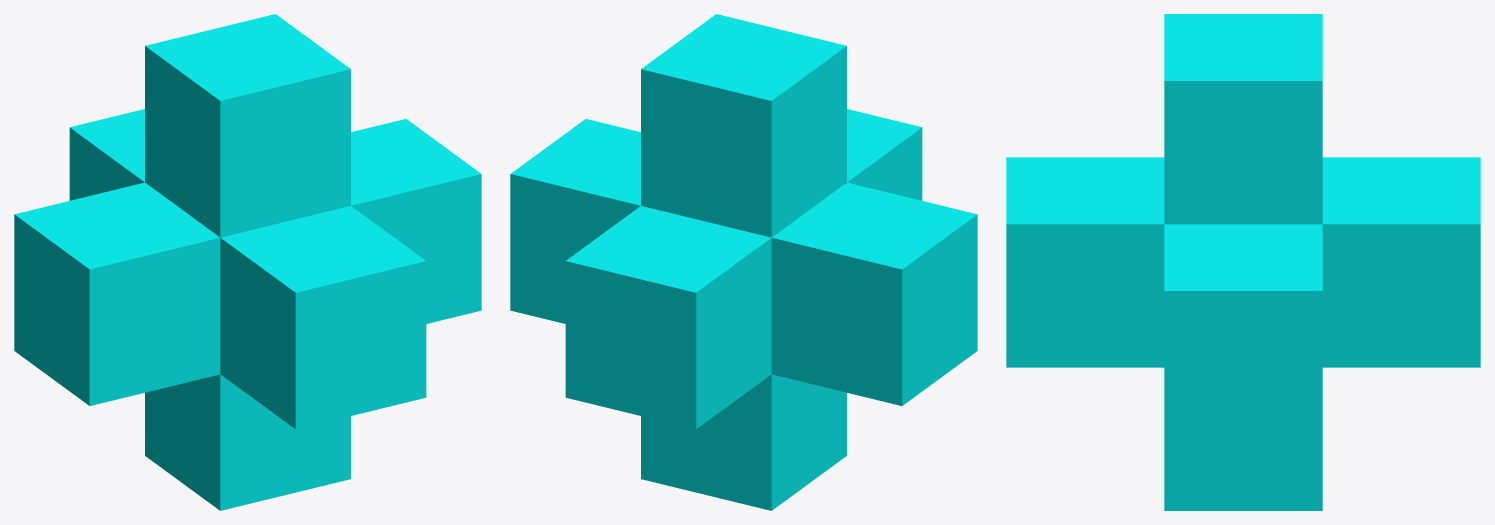
File: RoundProjectile.FBX
3 views of the same model, side by side, from view 1: azimuth 30°, elevation 25°; view 2: azimuth 150°, elevation 25°; view 3: azimuth 270°, elevation 25° (orthographic). The views are drawn at different scales.
Visible parts, largest first — view 1: RoundProjectile; view 2: RoundProjectile; view 3: RoundProjectile.
Part boxes in pixels (x1=…): RoundProjectile: x1=14, y1=14, x2=481, y2=510; RoundProjectile: x1=510, y1=14, x2=977, y2=510; RoundProjectile: x1=1006, y1=14, x2=1480, y2=510.
Bounding box in the file's own units: 3 × 3 × 3.
